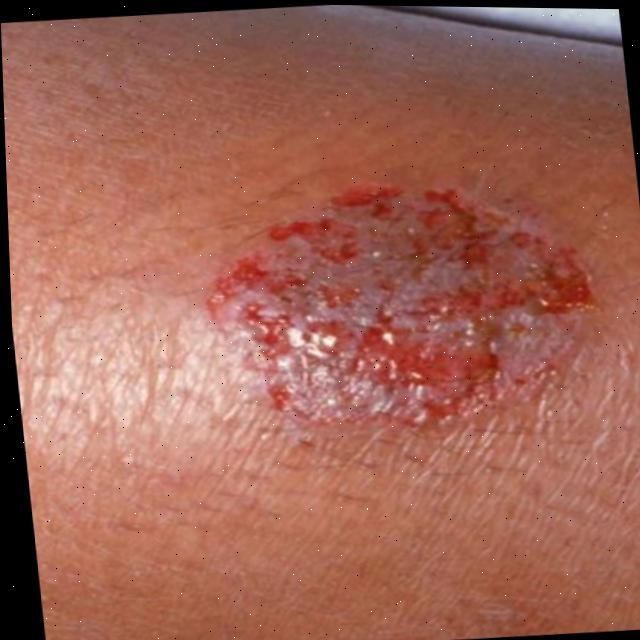Eczema: (224, 177, 559, 434)
